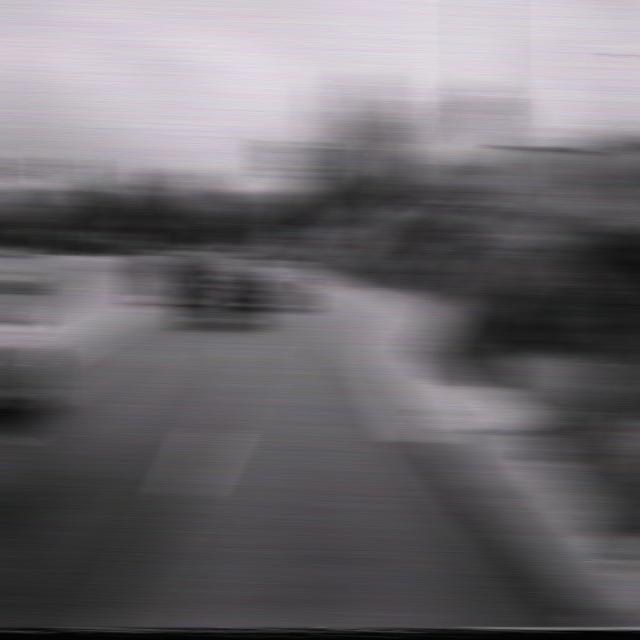pedestrianCrossing: (448, 67, 520, 162)
